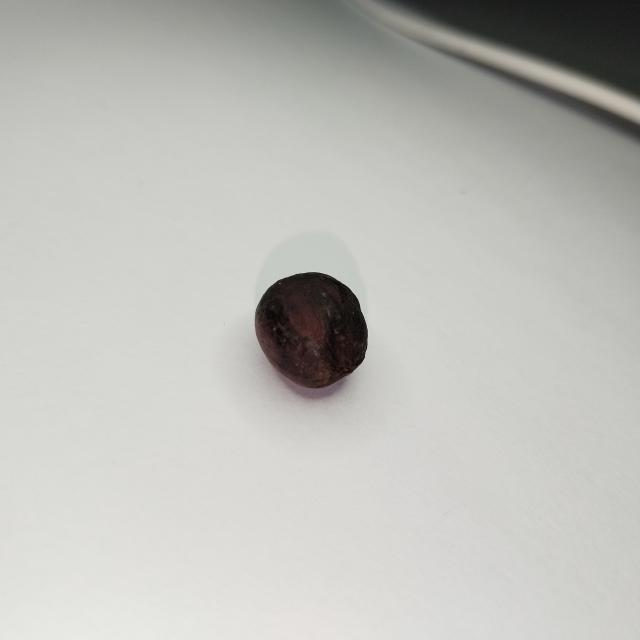Danado: (255, 272, 369, 387)
